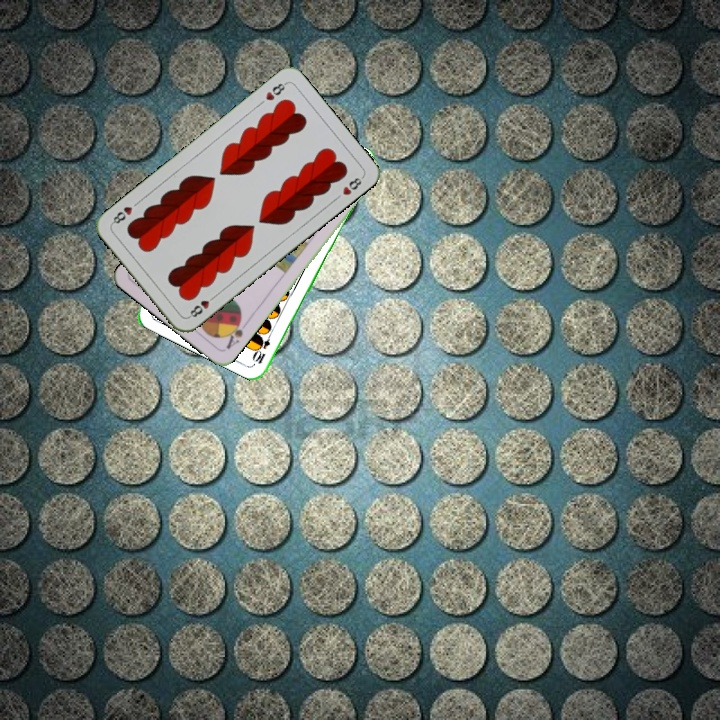E10: (251, 327, 275, 367)
H8: (184, 291, 219, 320), (261, 78, 289, 103)
SA: (221, 313, 246, 352)
